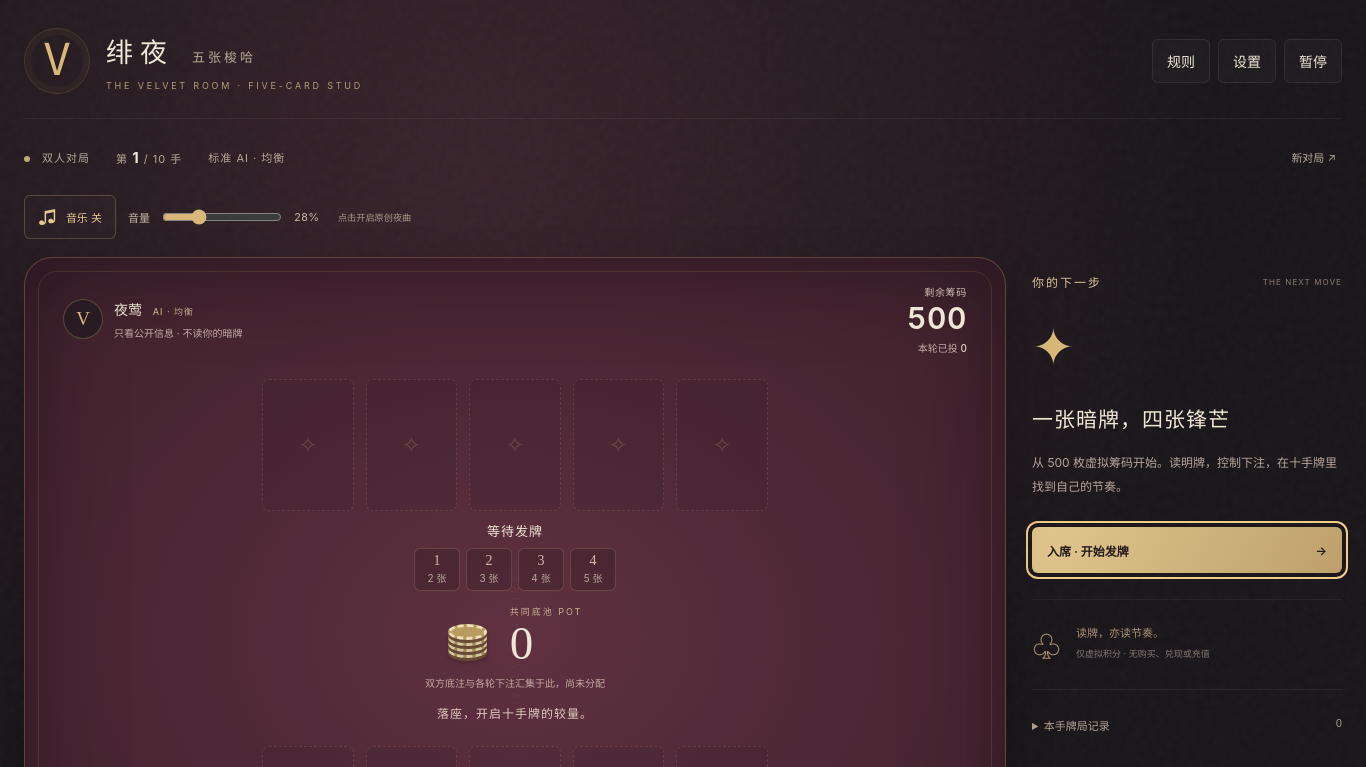
it: interaction lifecycle › keeps scoped keyboard focus on the table when its start button disappears
Click the button "入席 · 开始发牌 →" at [1088, 551], box [1032,527,1342,573]
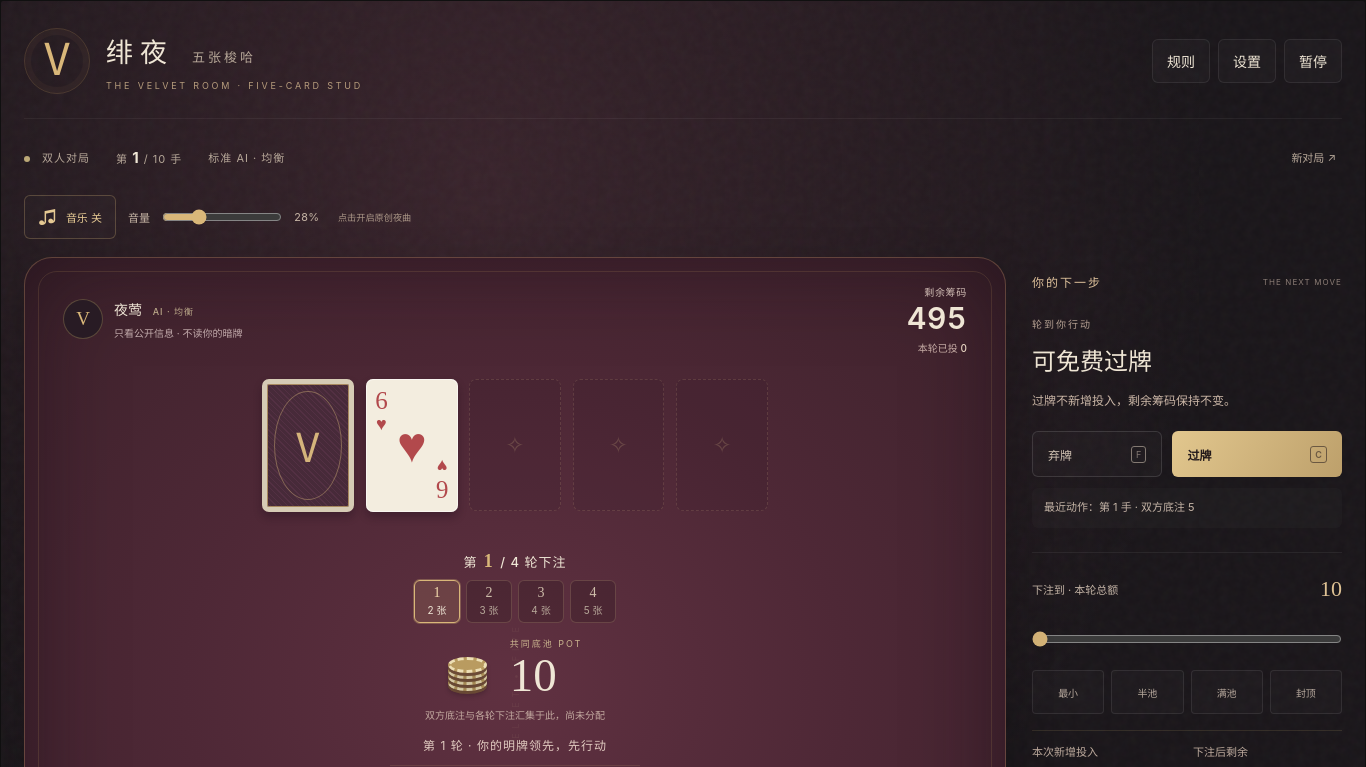
Expected: the button "入席" is gone
